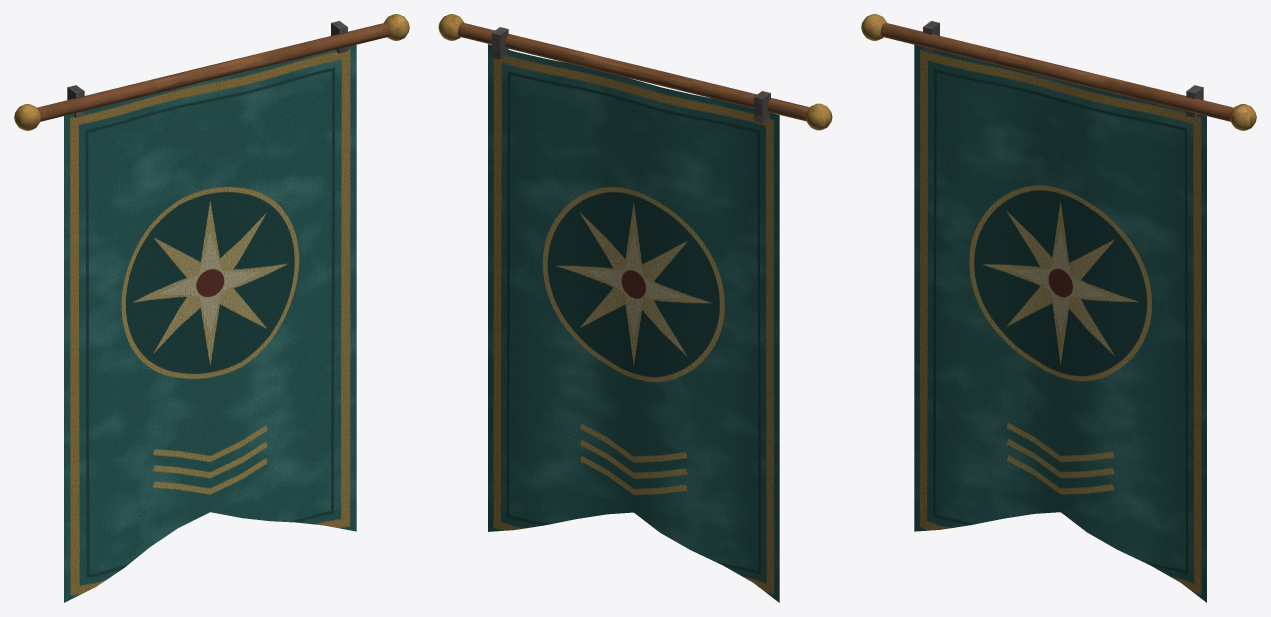
The model's file is tapestry.glb.
3 views of the same model, side by side, from view 1: azimuth 30°, elevation 25°; view 2: azimuth 150°, elevation 25°; view 3: azimuth 330°, elevation 25° (orthographic).
Visible parts, largest first — view 1: Tapestry_tapestry, Tapestry_oak, Tapestry_brass, Tapestry_iron; view 2: Tapestry_tapestry, Tapestry_oak, Tapestry_brass, Tapestry_iron; view 3: Tapestry_tapestry, Tapestry_oak, Tapestry_brass, Tapestry_iron.
Boxes of the visible parts, x1,y1,x2,y2 form: Tapestry_tapestry: (64,44,356,602); Tapestry_oak: (37,22,390,121); Tapestry_brass: (14,14,409,130); Tapestry_iron: (67,21,347,117); Tapestry_tapestry: (488,44,779,602); Tapestry_oak: (457,22,809,121); Tapestry_brass: (438,14,832,130); Tapestry_iron: (491,27,770,123); Tapestry_tapestry: (914,44,1206,602); Tapestry_oak: (880,22,1233,121); Tapestry_brass: (861,14,1256,130); Tapestry_iron: (923,21,1203,117).
Bounding box in the file's own units: 1.34 × 1.66 × 0.09.
Materials: 4 (4 with a texture image).
